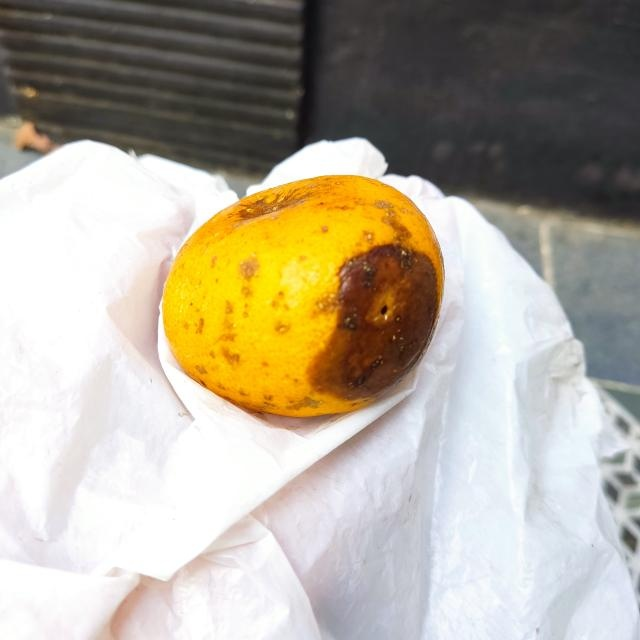agrume: (157, 174, 444, 420)
